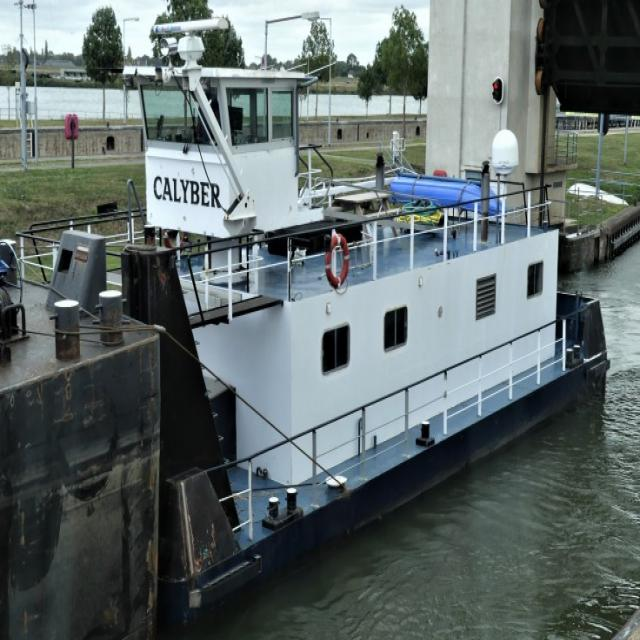tugboat: (26, 15, 617, 627)
